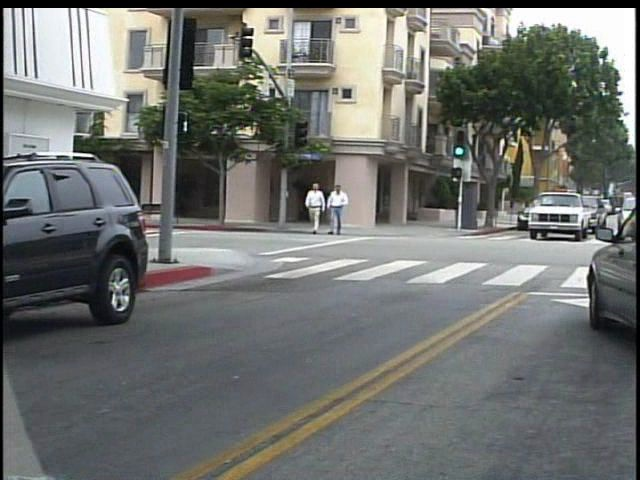person: (331, 180, 357, 240), (309, 178, 333, 241)
